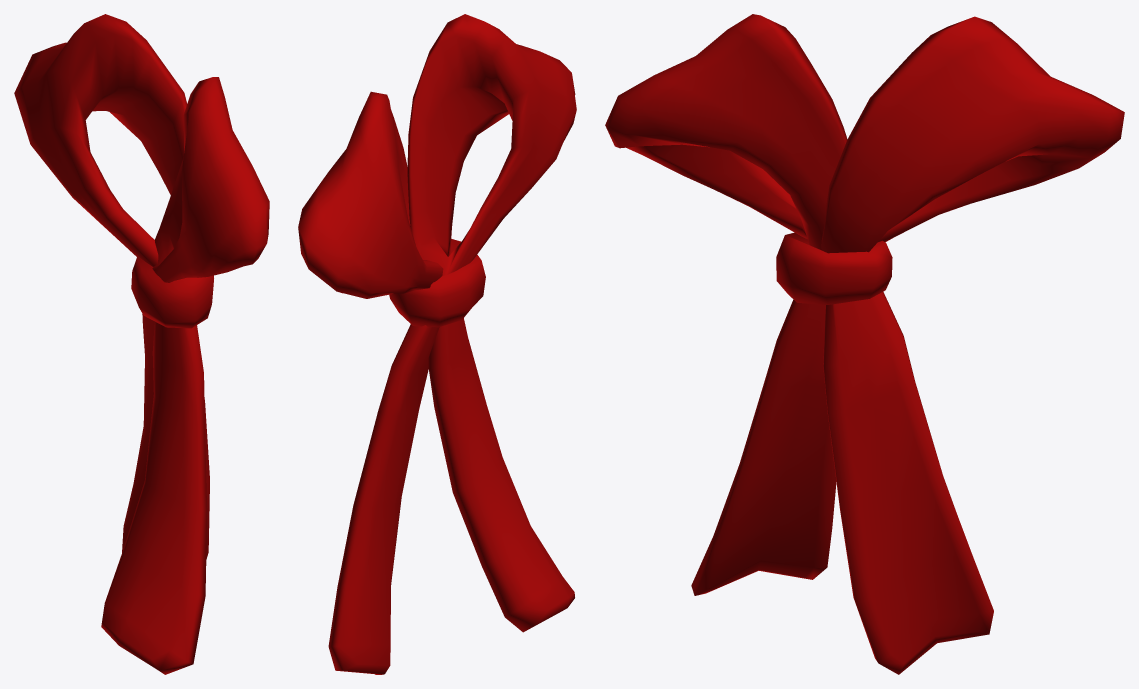
File: ChristmasDecoBow.fbx
3 views of the same model, side by side, from view 1: azimuth 30°, elevation 25°; view 2: azimuth 150°, elevation 25°; view 3: azimuth 270°, elevation 25° (orthographic). The views are drawn at different scales.
Parts seen in each view (by area): view 1: Christmas_Tree_Bow; view 2: Christmas_Tree_Bow; view 3: Christmas_Tree_Bow.
Part boxes in pixels (x1=…): Christmas_Tree_Bow: x1=14, y1=14, x2=269, y2=674; Christmas_Tree_Bow: x1=298, y1=14, x2=576, y2=674; Christmas_Tree_Bow: x1=605, y1=14, x2=1124, y2=674.
Size of the model in its own units: 13.52 by 56.27 by 40.97.
